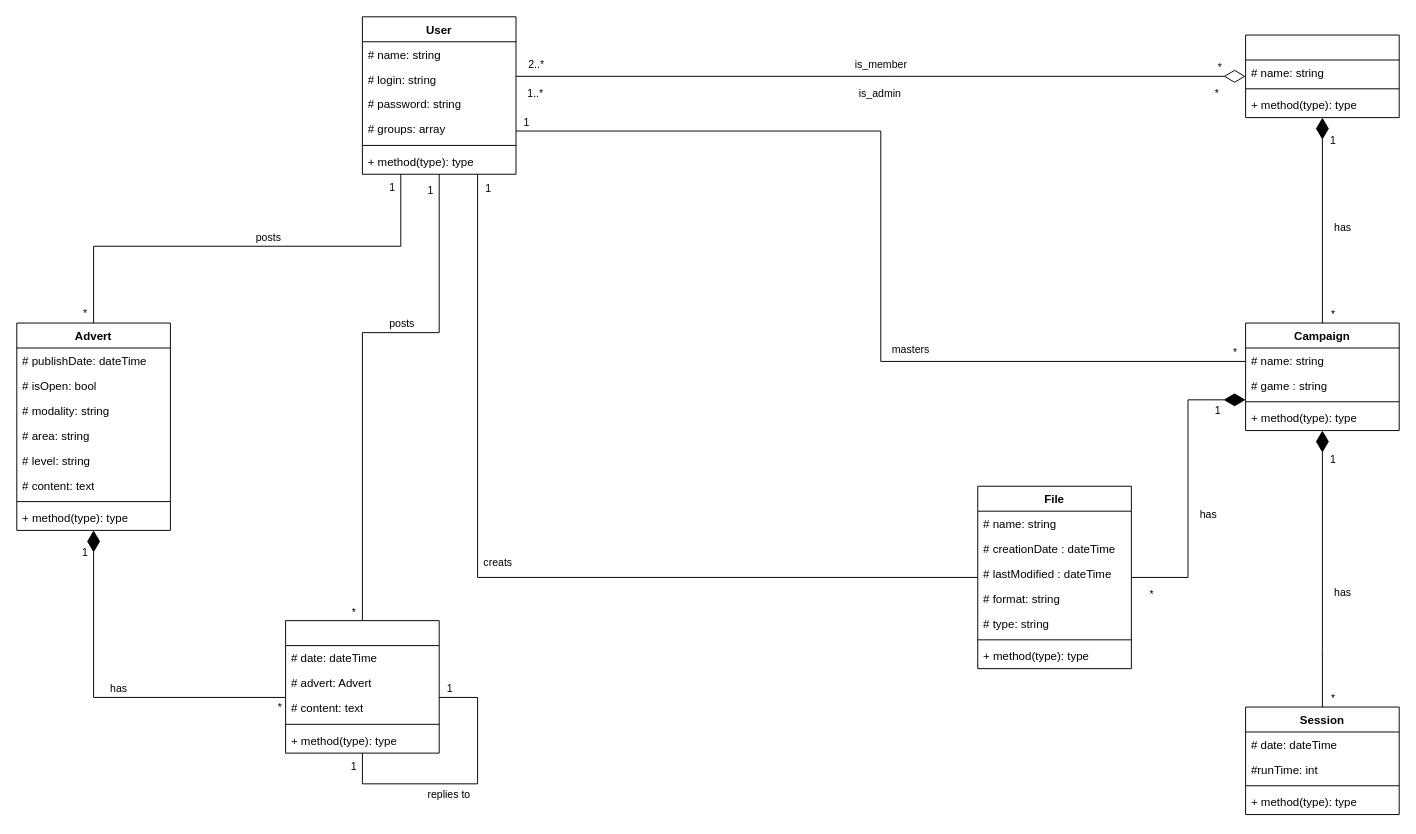
Some shapes in this 1416 by 834 pixel diagram are drawn without their labels. Each missing label, with the box of its shape:
Comment: (285, 620, 439, 753)
Group: (1245, 34, 1399, 118)
